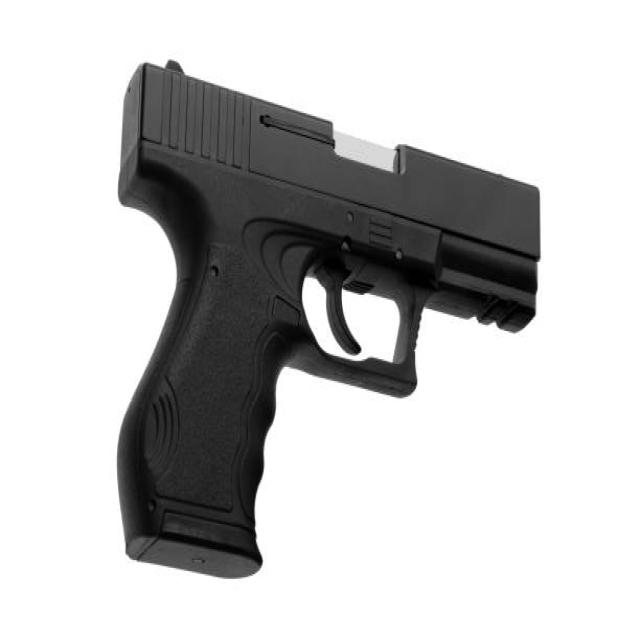pistol: (119, 40, 545, 583)
